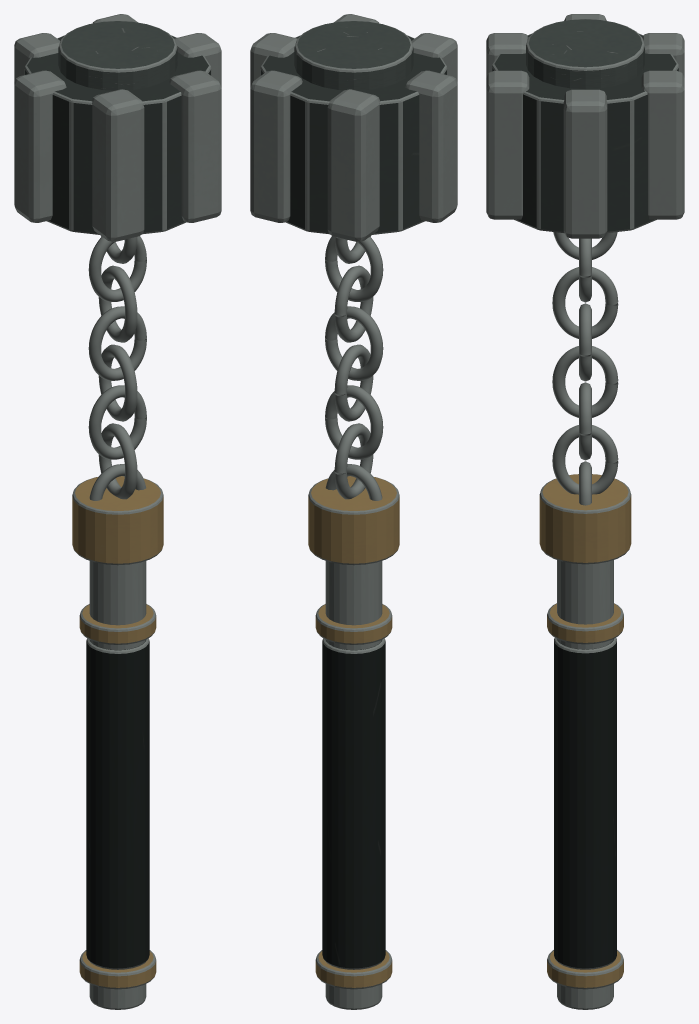
Rendered from flail-t2.glb.
The picture shows the model from 3 angles, left to right: view 1: azimuth 30°, elevation 25°; view 2: azimuth 150°, elevation 25°; view 3: azimuth 270°, elevation 25°; orthographic projection.
Visible parts, largest first — view 1: Continuous two-hand wrap, Flail core, Flail striking rib 4, Flail crown, Flail hinged collar, Flail striking rib 5, Flail striking rib 3, Steel shaft, Articulated chain link 2, Articulated chain link 4, Grip ferrule.001, Grip ferrule (+8 smaller); view 2: Continuous two-hand wrap, Flail core, Flail striking rib 2, Flail crown, Flail hinged collar, Flail striking rib 1, Flail striking rib 3, Steel shaft, Articulated chain link 2, Articulated chain link 4, Grip ferrule.001, Grip ferrule (+8 smaller); view 3: Continuous two-hand wrap, Flail core, Flail crown, Flail hinged collar, Flail striking rib 0, Flail striking rib 1, Flail striking rib 5, Steel shaft, Articulated chain link 3, Articulated chain link 5, Articulated chain link 1, Grip ferrule.001 (+8 smaller).
Boxes of the visible parts, left/top/right/bottom form: Continuous two-hand wrap: left=86, top=638, right=149, bottom=969; Flail core: left=24, top=35, right=211, bottom=234; Flail striking rib 4: left=92, top=89, right=144, bottom=241; Flail crown: left=58, top=21, right=177, bottom=90; Flail hinged collar: left=72, top=476, right=163, bottom=565; Flail striking rib 5: left=169, top=70, right=221, bottom=222; Flail striking rib 3: left=14, top=70, right=66, bottom=222; Steel shaft: left=89, top=561, right=146, bottom=1009; Articulated chain link 2: left=88, top=385, right=146, bottom=459; Articulated chain link 4: left=88, top=306, right=146, bottom=380; Grip ferrule.001: left=79, top=604, right=156, bottom=644; Grip ferrule: left=79, top=950, right=156, bottom=989; Continuous two-hand wrap: left=322, top=638, right=385, bottom=969; Flail core: left=260, top=35, right=447, bottom=234; Flail striking rib 2: left=327, top=89, right=379, bottom=241; Flail crown: left=294, top=21, right=413, bottom=90; Flail hinged collar: left=308, top=476, right=399, bottom=565; Flail striking rib 1: left=250, top=70, right=302, bottom=222; Flail striking rib 3: left=405, top=70, right=457, bottom=222; Steel shaft: left=325, top=561, right=382, bottom=1009; Articulated chain link 2: left=325, top=385, right=383, bottom=459; Articulated chain link 4: left=325, top=306, right=383, bottom=380; Grip ferrule.001: left=315, top=604, right=392, bottom=644; Grip ferrule: left=315, top=950, right=392, bottom=989; Continuous two-hand wrap: left=554, top=638, right=616, bottom=969; Flail core: left=492, top=33, right=678, bottom=233; Flail crown: left=526, top=19, right=644, bottom=89; Flail hinged collar: left=539, top=474, right=631, bottom=564; Flail striking rib 0: left=563, top=89, right=607, bottom=238; Flail striking rib 1: left=641, top=70, right=684, bottom=219; Flail striking rib 5: left=486, top=70, right=529, bottom=219; Steel shaft: left=557, top=560, right=613, bottom=1009; Articulated chain link 3: left=552, top=346, right=618, bottom=417; Articulated chain link 5: left=552, top=267, right=618, bottom=338; Articulated chain link 1: left=552, top=425, right=618, bottom=494; Grip ferrule.001: left=547, top=603, right=623, bottom=644.
Size of the model in its own units: 0.485 by 2.3 by 0.4327.
5 materials, 5 textured.
